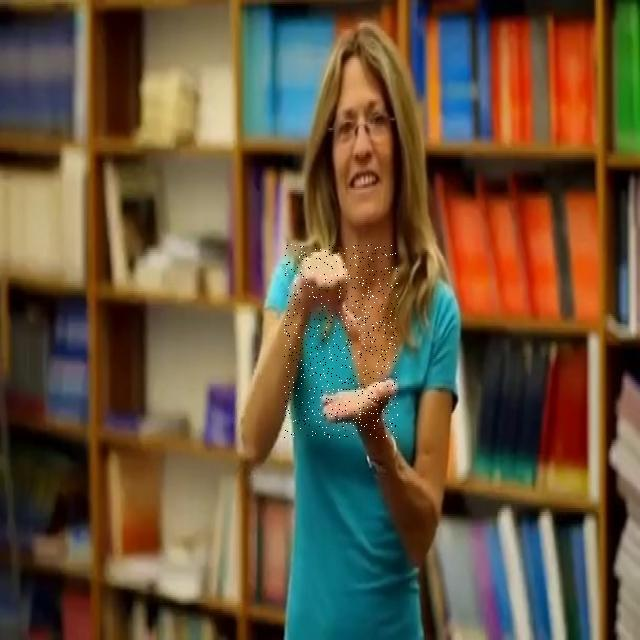sauce: (284, 244, 398, 438)
